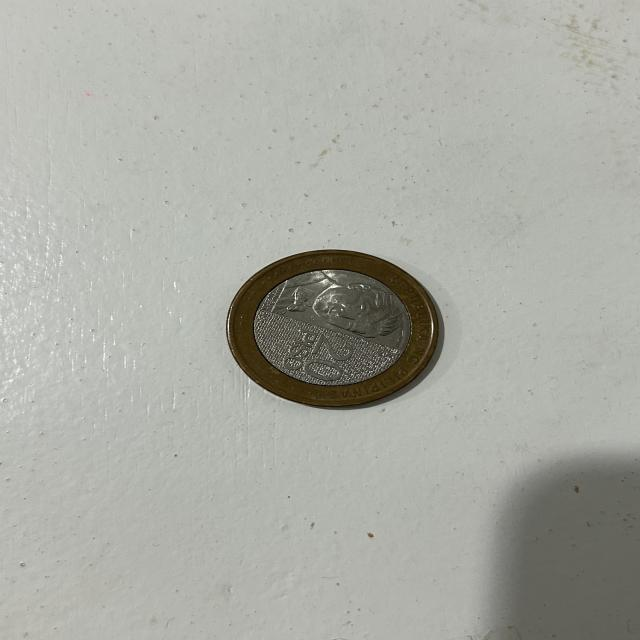20_New_Front: (275, 326, 364, 392)
